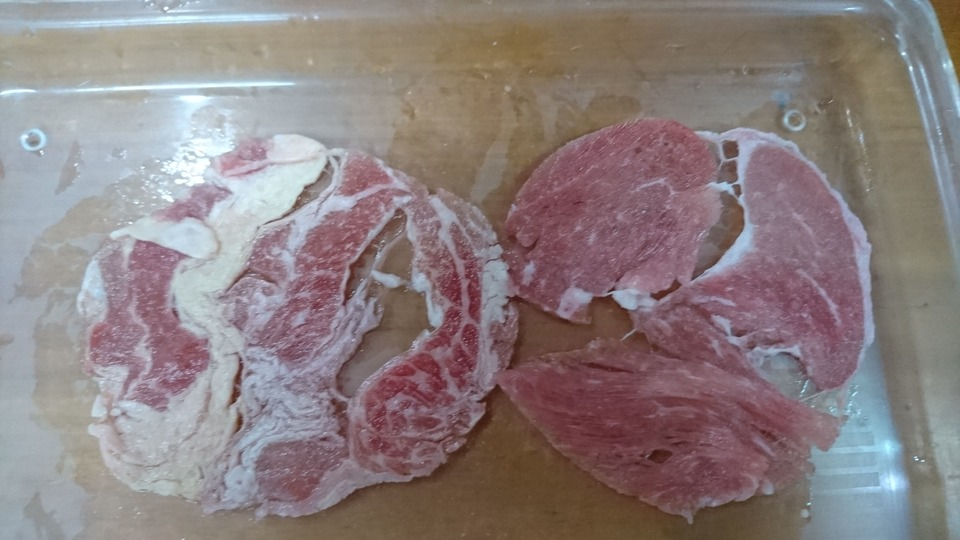restructured meat: (56, 126, 493, 510), (511, 104, 886, 520)
